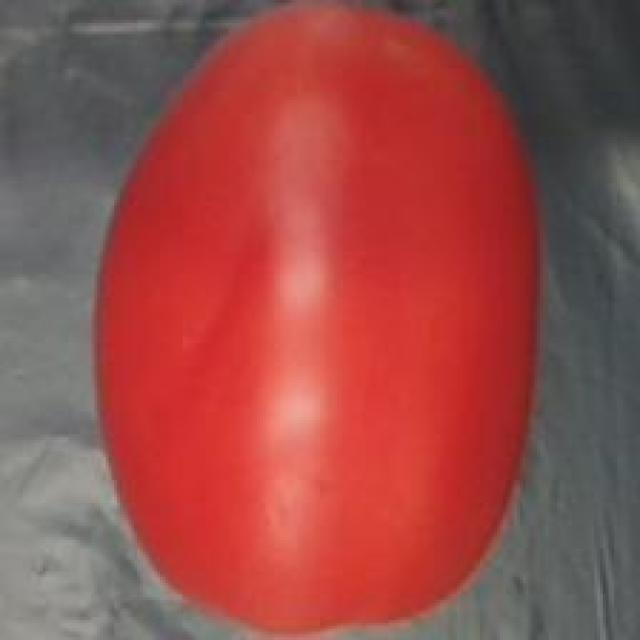ripe tomato: (86, 3, 554, 640)
